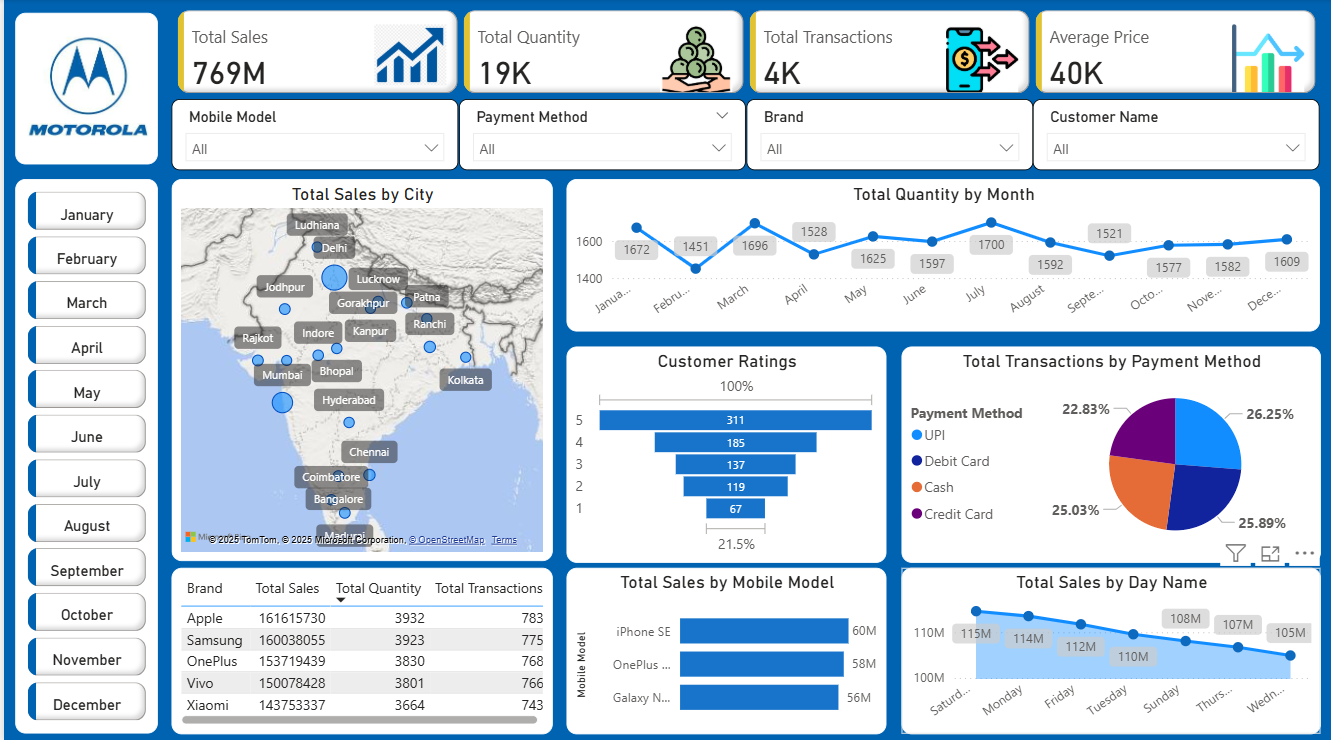

What the dashboard file says about the page in this screenshot:
{"tool":"powerbi","page":{"name":"Page 1","canvas":[1280,720],"ordinal":0},"visuals":[{"type":"shape","box":[11.2,13.8,137.5,146.2],"z":0},{"type":"image","box":[17.8,19.2,126.2,130.4],"z":1000},{"type":"shape","box":[11,174.3,137.2,535.2],"z":2000},{"type":"advancedSlicerVisual","fields":{"Values":["Mobile Sales Data.Date.Variation.Date Hierarchy.Month"]},"box":[17.8,181.1,124.9,528.3],"z":3000},{"type":"cardVisual","fields":{"Data":["Mobile Sales Data.Total Sales","Mobile Sales Data.Total Quantity","Mobile Sales Data.Total Transactions","Mobile Sales Data.Average Price"]},"box":[162.5,6.2,1108.8,90],"z":5000},{"type":"map","fields":{"Category":["Mobile Sales Data.City"],"Size":["Mobile Sales Data.Total Sales"]},"box":[161.9,174.3,367.8,369.1],"z":6000},{"type":"lineChart","fields":{"Category":["Mobile Sales Data.Date.Variation.Date Hierarchy.Month","Mobile Sales Data.Date.Variation.Date Hierarchy.Day"],"Y":["Mobile Sales Data.Total Quantity"]},"box":[543.4,174.3,727.3,146.8],"z":7000},{"type":"clusteredBarChart","fields":{"Category":["Mobile Sales Data.Mobile Model"],"Y":["Mobile Sales Data.Total Sales"]},"box":[543.4,548.9,308.7,160.5],"z":8000},{"type":"pieChart","fields":{"Category":["Mobile Sales Data.Payment Method"],"Y":["Mobile Sales Data.Total Transactions"]},"box":[865.9,334.8,404.8,208.6],"z":9000},{"type":"funnel","title":"Customer Ratings ","fields":{"Category":["Mobile Sales Data.Customer Ratings"],"Y":["CountNonNull(Mobile Sales Data.Customer Ratings)"]},"box":[543.4,334.8,308.7,208.6],"z":10000},{"type":"areaChart","fields":{"Category":["Mobile Sales Data.Day Name"],"Y":["Mobile Sales Data.Total Sales"]},"box":[865.9,548.9,404.8,160.5],"z":11000},{"type":"tableEx","fields":{"Values":["Mobile Sales Data.Brand","Mobile Sales Data.Total Sales","Mobile Sales Data.Total Quantity","Mobile Sales Data.Total Transactions"]},"box":[161.9,548.9,367.8,160.5],"z":12000},{"type":"slicer","fields":{"Values":["Mobile Sales Data.Mobile Model"]},"box":[161.9,96.1,277.2,68.6],"z":13000},{"type":"slicer","fields":{"Values":["Mobile Sales Data.Payment Method"]},"box":[439.1,96.1,277.2,68.6],"z":14000},{"type":"slicer","fields":{"Values":["Mobile Sales Data.Brand"]},"box":[716.3,96.1,277.2,68.6],"z":15000},{"type":"slicer","fields":{"Values":["Mobile Sales Data.Customer Name"]},"box":[993.5,96.1,277.2,68.6],"z":16000}]}

Visuals, with their boxes in screenshot pixels (x1, y1, x2, y2), scaled from the page's 1280x720 canvas onto the 1331x740 screenshot:
shape: <box>12,14,155,164</box>
image: <box>19,20,150,154</box>
shape: <box>11,179,154,729</box>
advancedSlicerVisual - Mobile Sales Data.Date.Variation.Date Hierarchy.Month: <box>19,186,148,729</box>
cardVisual - Mobile Sales Data.Total Sales x Mobile Sales Data.Total Quantity: <box>169,6,1322,99</box>
map - Mobile Sales Data.City x Mobile Sales Data.Total Sales: <box>168,179,551,558</box>
lineChart - Mobile Sales Data.Date.Variation.Date Hierarchy.Month x Mobile Sales Data.Date.Variation.Date Hierarchy.Day: <box>565,179,1321,330</box>
clusteredBarChart - Mobile Sales Data.Mobile Model x Mobile Sales Data.Total Sales: <box>565,564,886,729</box>
pieChart - Mobile Sales Data.Payment Method x Mobile Sales Data.Total Transactions: <box>900,344,1321,558</box>
"Customer Ratings " funnel: <box>565,344,886,558</box>
areaChart - Mobile Sales Data.Day Name x Mobile Sales Data.Total Sales: <box>900,564,1321,729</box>
tableEx - Mobile Sales Data.Brand x Mobile Sales Data.Total Sales: <box>168,564,551,729</box>
slicer - Mobile Sales Data.Mobile Model: <box>168,99,457,169</box>
slicer - Mobile Sales Data.Payment Method: <box>457,99,745,169</box>
slicer - Mobile Sales Data.Brand: <box>745,99,1033,169</box>
slicer - Mobile Sales Data.Customer Name: <box>1033,99,1321,169</box>
